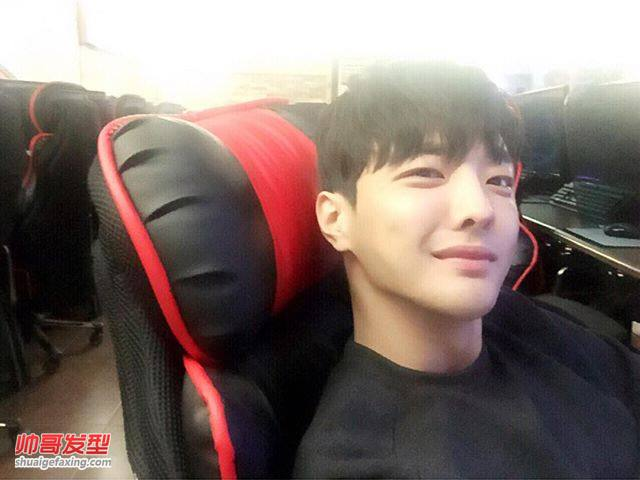person: (278, 46, 574, 480)
